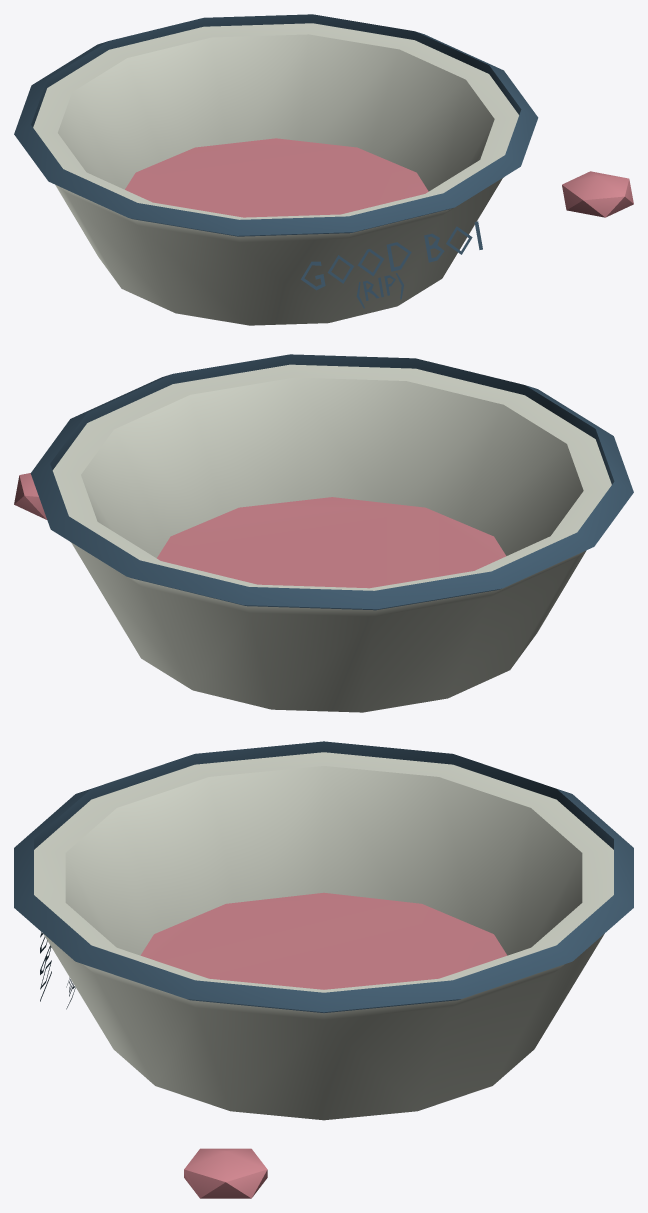
File: bowl_pet.glb
3 renders of one model, top to bottom at view 1: azimuth 30°, elevation 25°; view 2: azimuth 150°, elevation 25°; view 3: azimuth 270°, elevation 25°, orthographic. The views are drawn at different scales.
Visible parts, largest first — view 1: bowl_pet, sign; view 2: bowl_pet; view 3: bowl_pet.
Part boxes in pixels (<box>): bowl_pet: <box>14,14,633,325</box>; sign: <box>301,221,482,308</box>; bowl_pet: <box>14,354,633,712</box>; bowl_pet: <box>14,741,633,1198</box>.
Bounding box in the file's own units: 0.3844 × 0.0911 × 0.3159.
